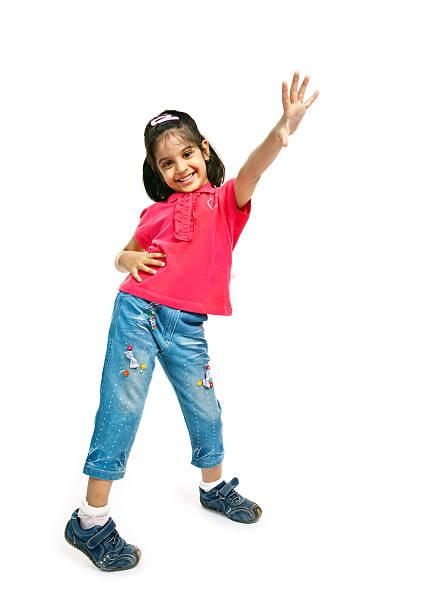Human: (77, 99, 289, 562)
